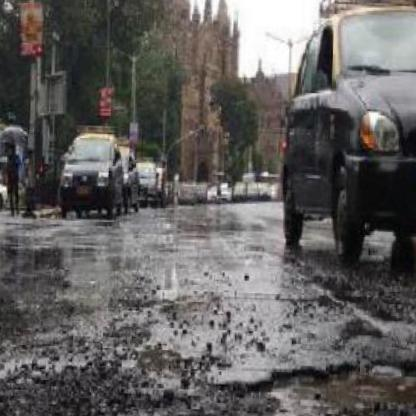pothole: (254, 351, 416, 416), (140, 394, 297, 416)
